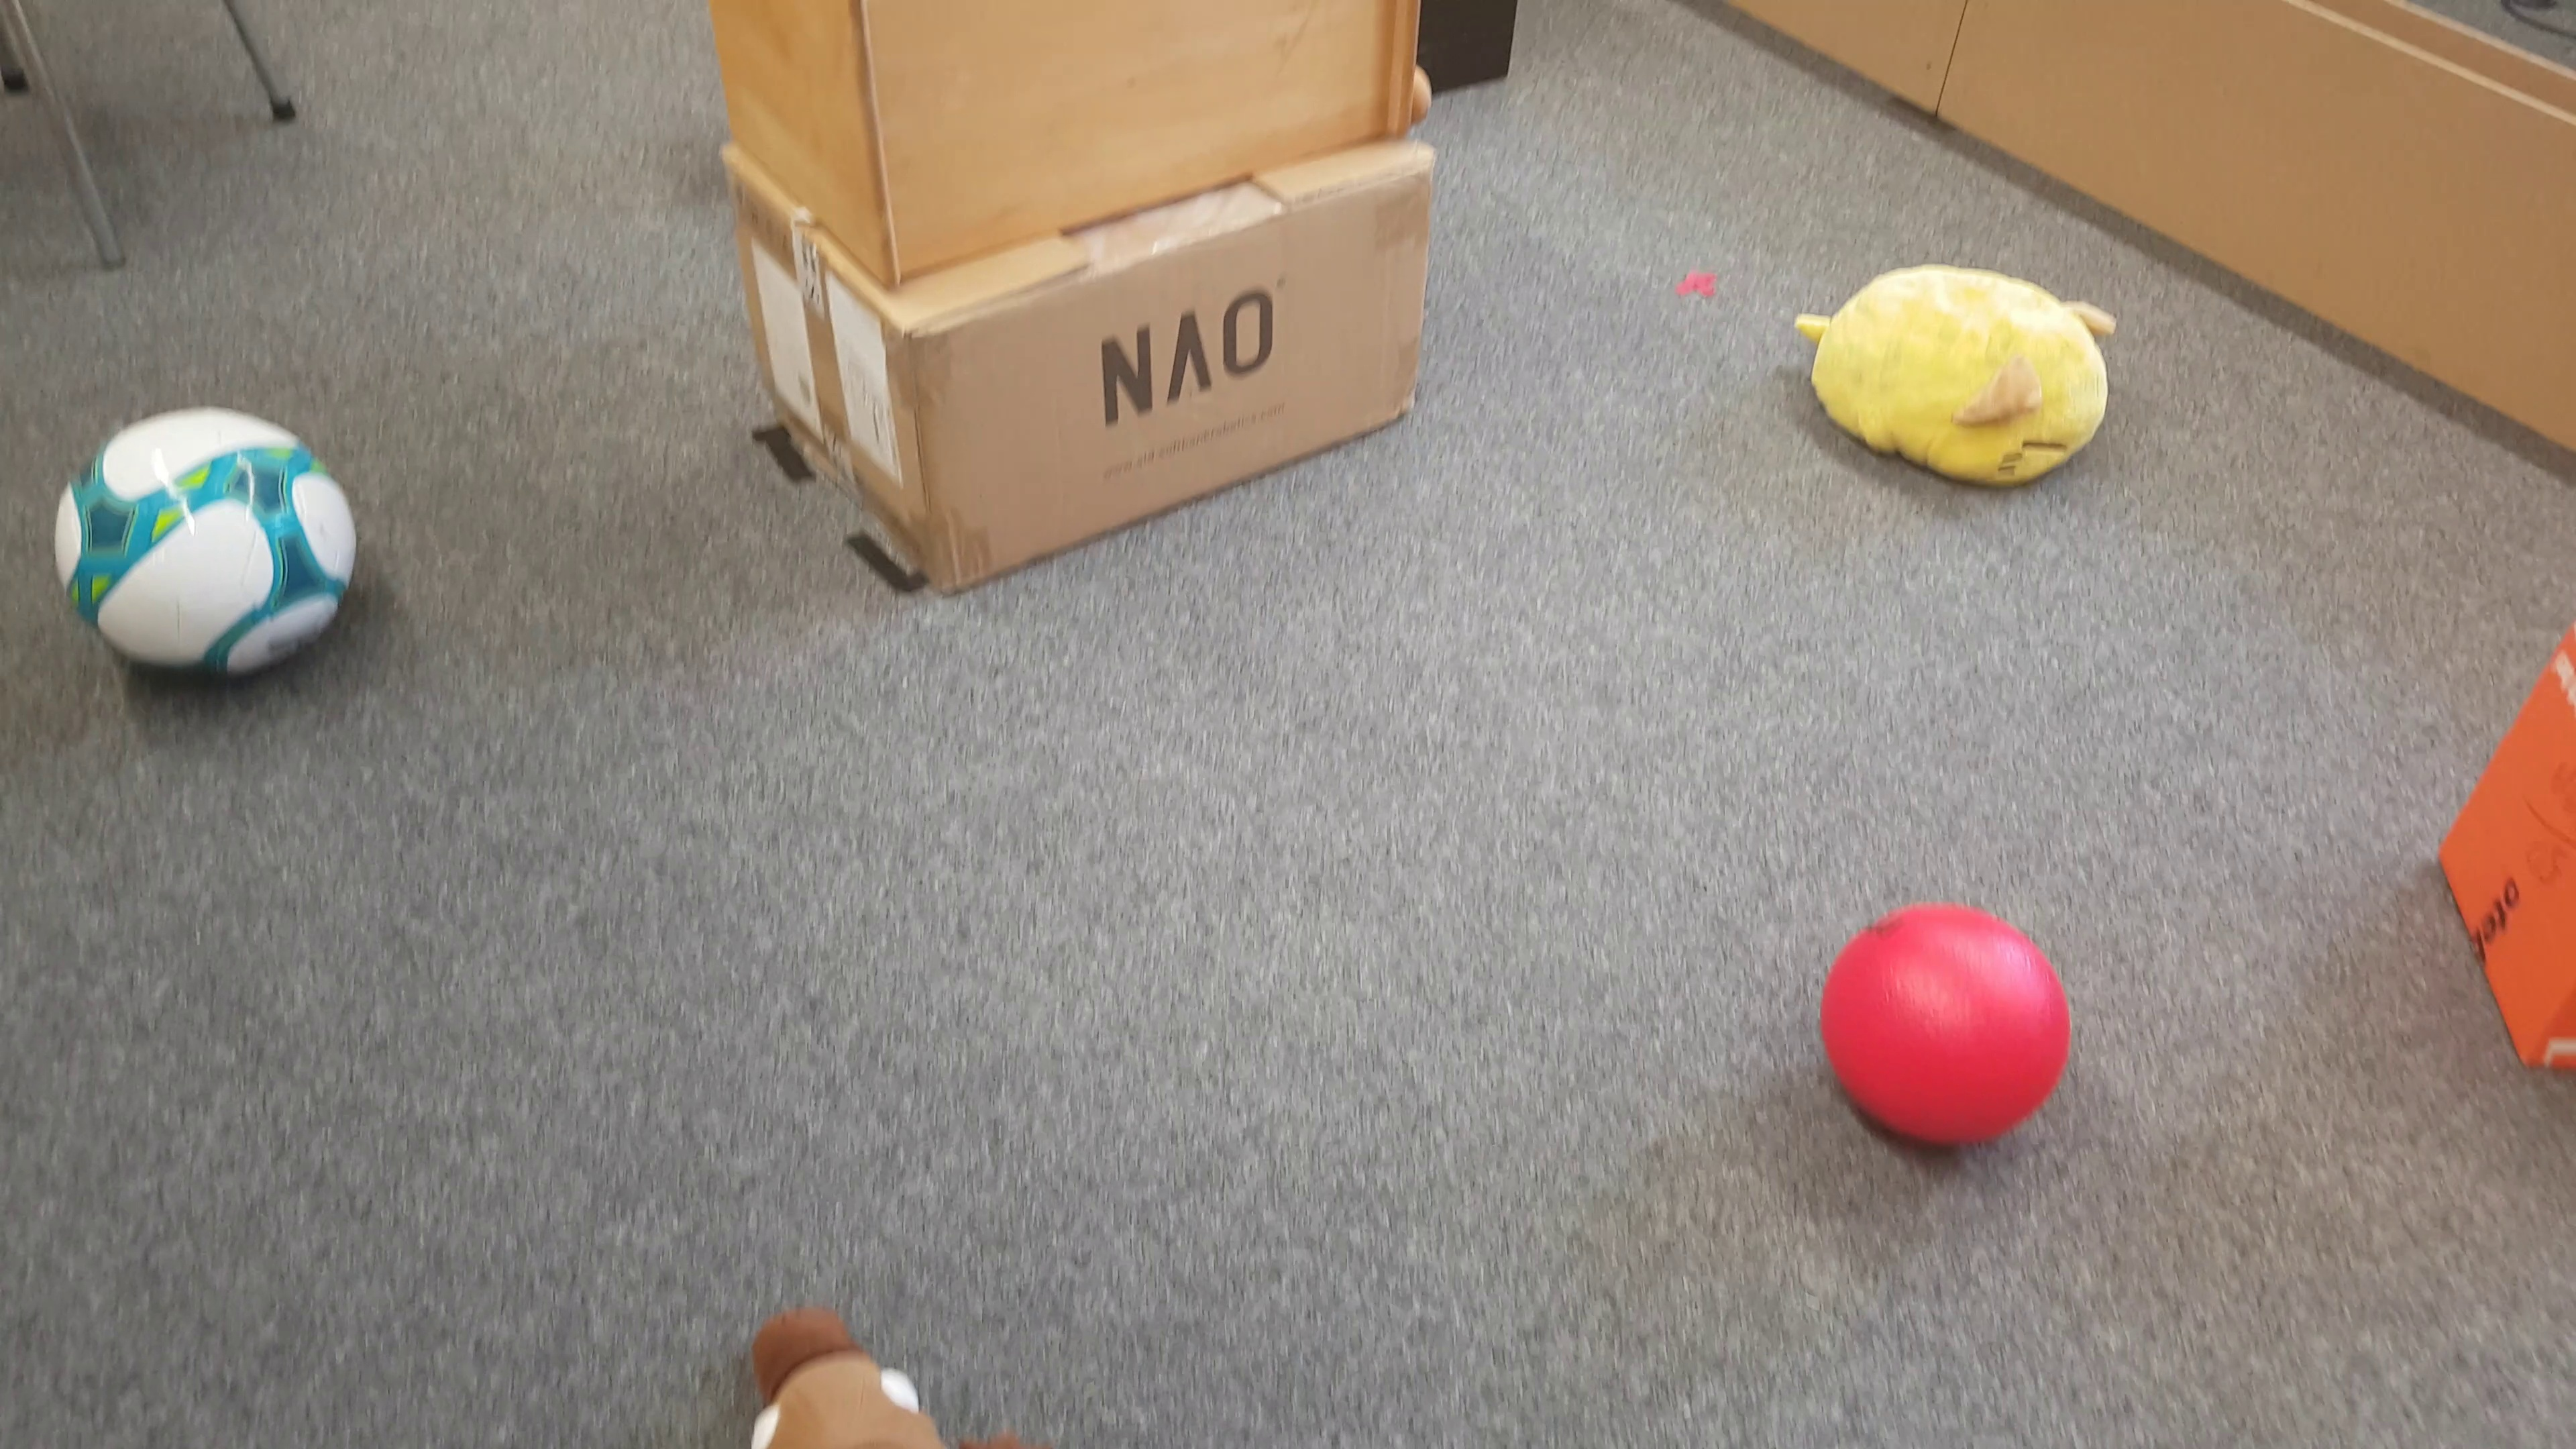grasp: (1790, 264, 2116, 494), (718, 1307, 1016, 1449)
kick: (44, 410, 357, 672), (1819, 904, 2074, 1150)
push: (2434, 625, 2576, 1072)
